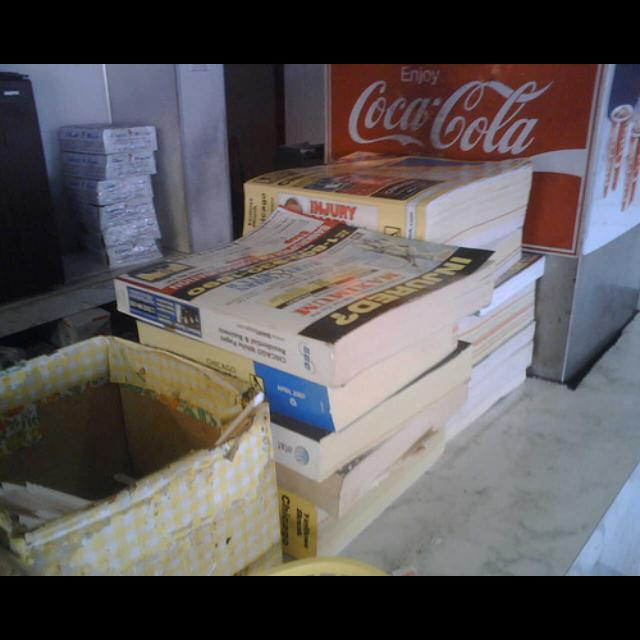Refrigerator: (328, 64, 640, 380)
